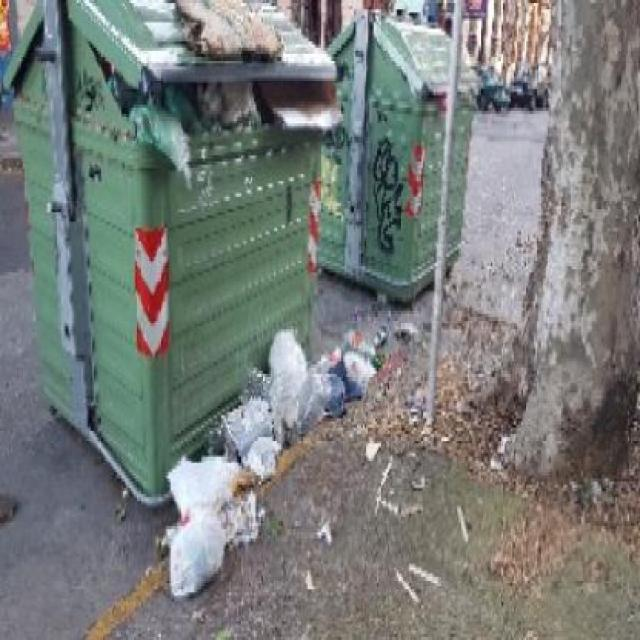garbage: (138, 69, 360, 165), (148, 446, 262, 573), (177, 0, 278, 57), (295, 343, 370, 409), (225, 368, 296, 434), (477, 51, 544, 108)
